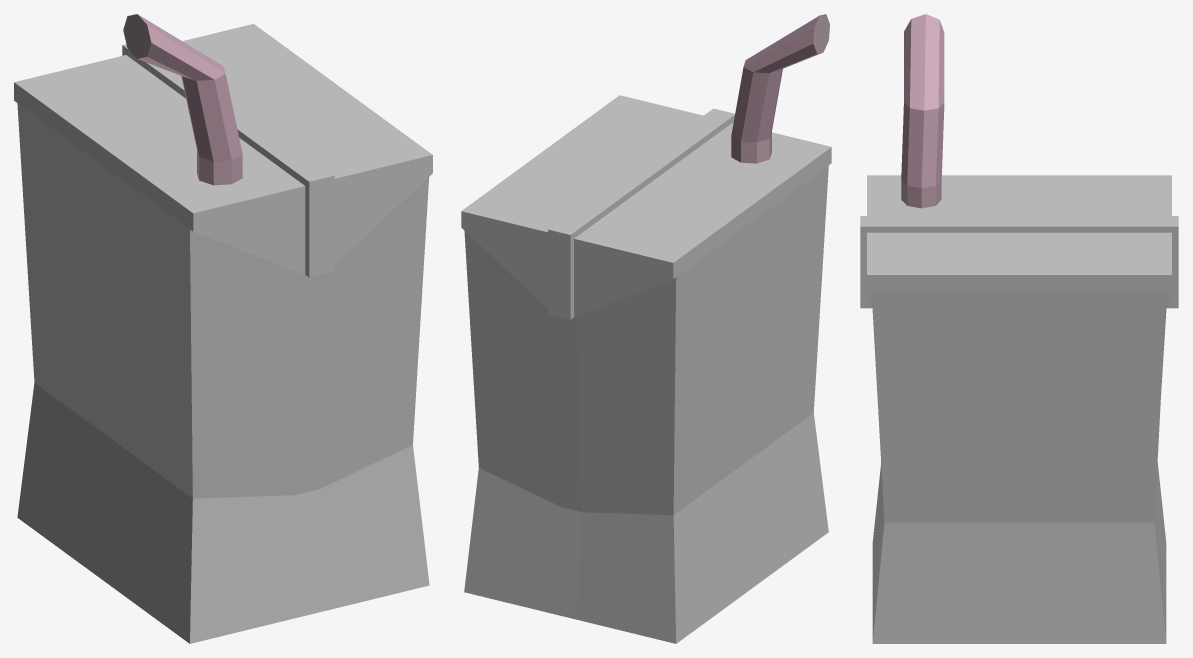
Rendered from Food_Juicebox.fbx.
The picture shows the model from 3 angles, left to right: view 1: azimuth 30°, elevation 25°; view 2: azimuth 150°, elevation 25°; view 3: azimuth 270°, elevation 25°; orthographic projection. The views are drawn at different scales.
Parts seen in each view (by area): view 1: Cube.048; view 2: Cube.048; view 3: Cube.048.
Part boxes in pixels (x1,y1,x2,y2): Cube.048: [14, 14, 432, 643]; Cube.048: [461, 14, 831, 643]; Cube.048: [860, 14, 1178, 643].
Bounding box in the file's own units: 8.35 × 18.49 × 10.23.
